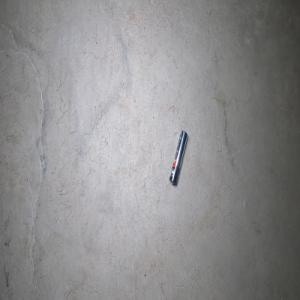Battery: (169, 129, 188, 185)
